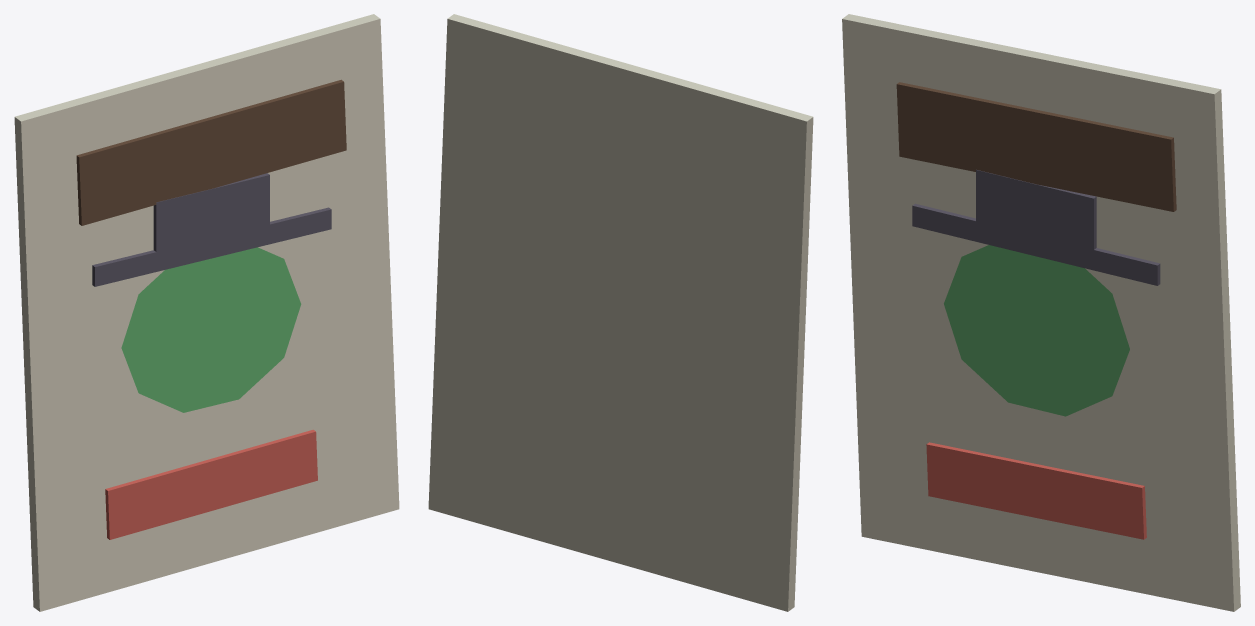
The model's file is poster.glb.
The picture shows the model from 3 angles, left to right: view 1: azimuth 30°, elevation 25°; view 2: azimuth 150°, elevation 25°; view 3: azimuth 330°, elevation 25°; orthographic projection. The views are drawn at different scales.
Visible parts, largest first — view 1: poster; view 2: poster; view 3: poster.
Part boxes in pixels (x1,y1,x2,y2): poster: (14, 14, 399, 611); poster: (428, 14, 813, 611); poster: (842, 14, 1240, 611).
Bounding box in the file's own units: 0.7994 × 1.03 × 0.035.
